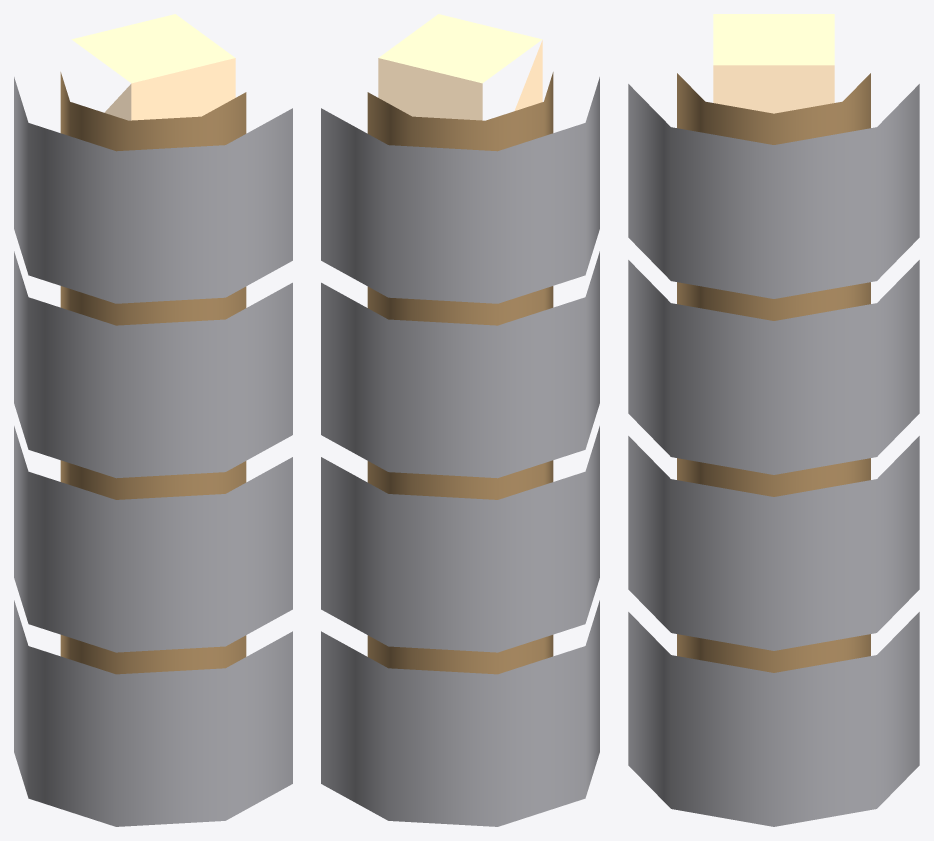
The model's file is cadenas_hierro.glb.
The picture shows the model from 3 angles, left to right: view 1: azimuth 30°, elevation 25°; view 2: azimuth 150°, elevation 25°; view 3: azimuth 270°, elevation 25°; orthographic projection.
Parts seen in each view (by area): view 1: Base, Accent, Glow; view 2: Base, Accent, Glow; view 3: Base, Accent, Glow.
Part boxes in pixels (bbox=[...]): Base: bbox=[14, 77, 292, 826]; Accent: bbox=[60, 72, 246, 674]; Glow: bbox=[71, 14, 235, 120]; Base: bbox=[321, 77, 599, 826]; Accent: bbox=[367, 72, 553, 674]; Glow: bbox=[378, 14, 542, 120]; Base: bbox=[628, 84, 919, 826]; Accent: bbox=[677, 73, 870, 672]; Glow: bbox=[713, 14, 834, 113].
Size of the model in its own units: 0.12 by 0.335 by 0.12.
